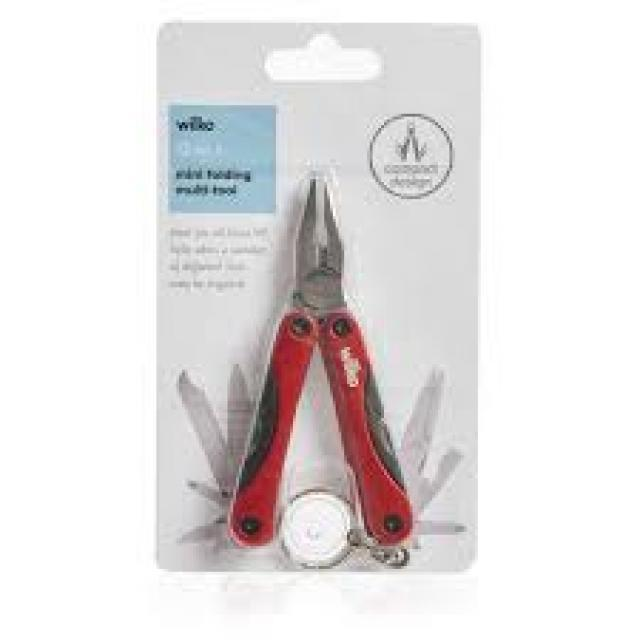pliers: (225, 160, 408, 560)
